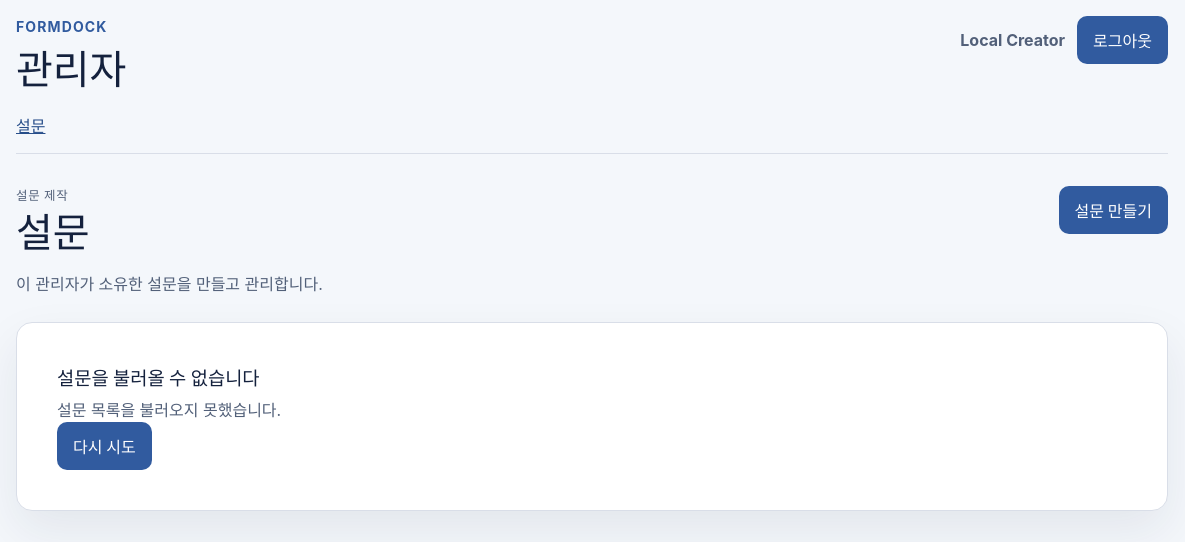
Test case: Survey Creator workflow › should_retrySurveyList_when_transientLoadFails
The image size is (1185, 542).
Expected: the heading "설문을 불러올 수 없습니다" is shown, top-left (57, 367), bottom-right (260, 390)
Click the button "다시 시도". click: (104, 446)
box: top-left (57, 422), bottom-right (152, 470)
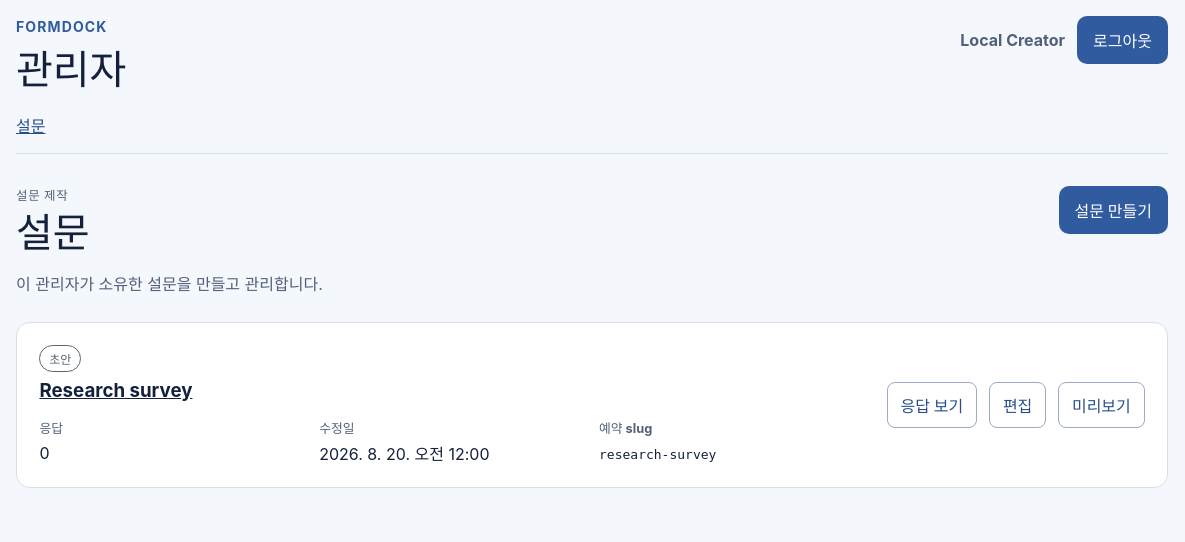
Now the link "Research survey" is shown, box top-left (39, 379), bottom-right (192, 402)
